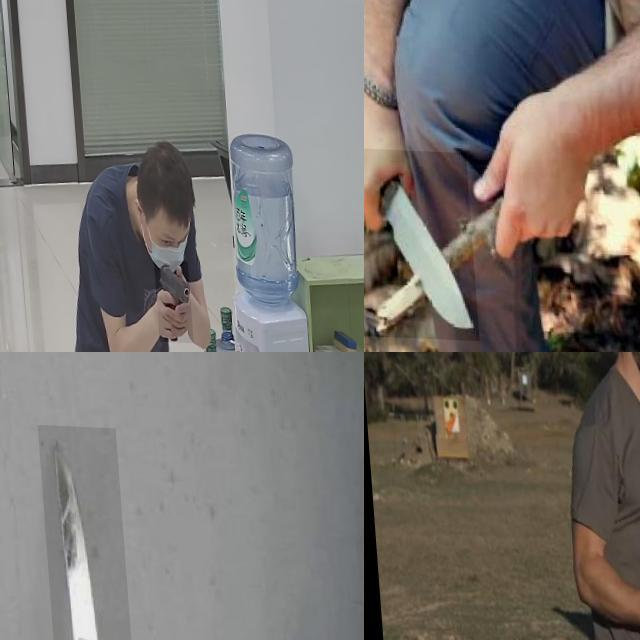-: (34, 422, 140, 640), (364, 144, 473, 337)
gun-knife-thesis - v11 Yolov5 augmented: (149, 256, 188, 340)
